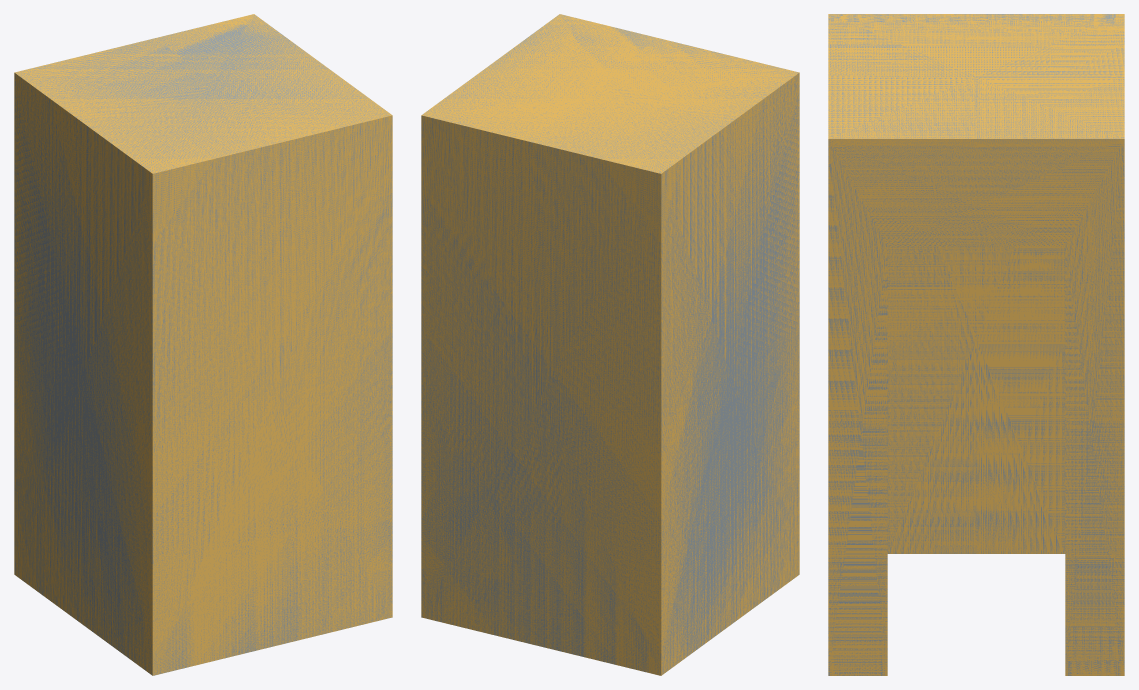
The model's file is door_with_back.fbx.
The picture shows the model from 3 angles, left to right: view 1: azimuth 30°, elevation 25°; view 2: azimuth 150°, elevation 25°; view 3: azimuth 270°, elevation 25°; orthographic projection. The views are drawn at different scales.
Parts seen in each view (by area): view 1: Group1; view 2: Group1; view 3: Group1.
Boxes of the visible parts, x1,y1,x2,y2 form: Group1: (14, 14, 392, 675); Group1: (421, 14, 799, 675); Group1: (828, 14, 1124, 675).
Bounding box in the file's own units: 100 × 200 × 100.
